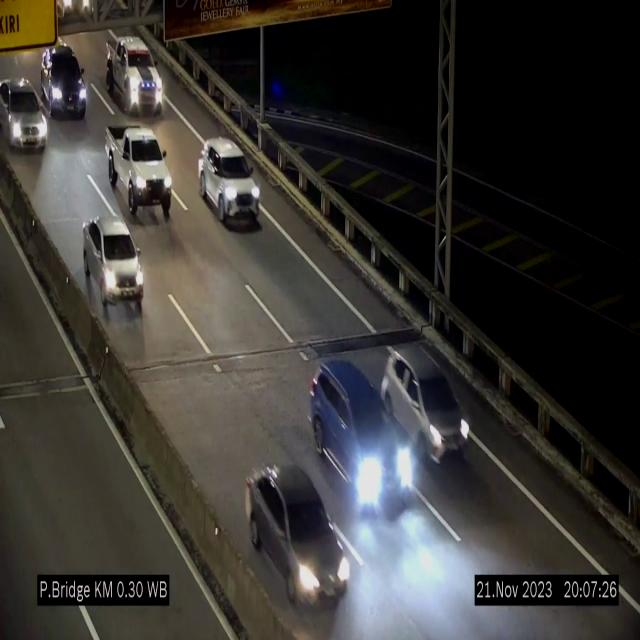Car: (306, 363, 416, 529), (239, 465, 354, 608), (380, 340, 469, 464), (103, 128, 179, 221), (82, 225, 146, 315), (104, 32, 166, 122), (198, 138, 260, 227), (0, 75, 48, 155), (44, 44, 86, 113)
